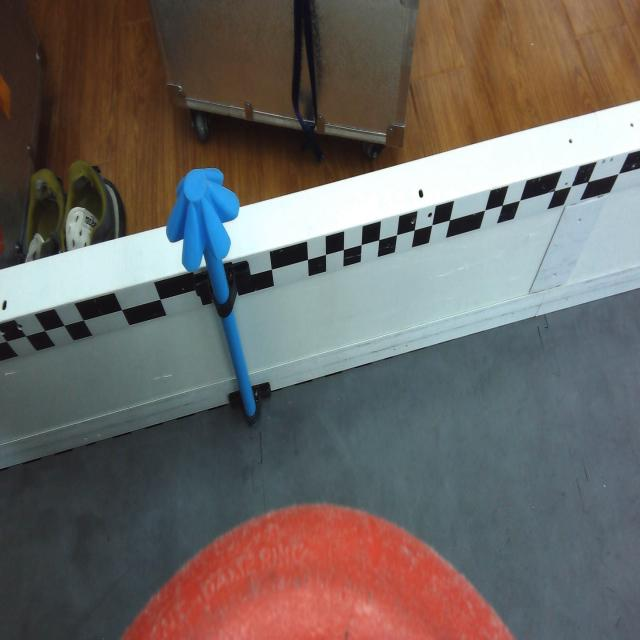zblue-Stake-Head: (166, 167, 240, 271)
